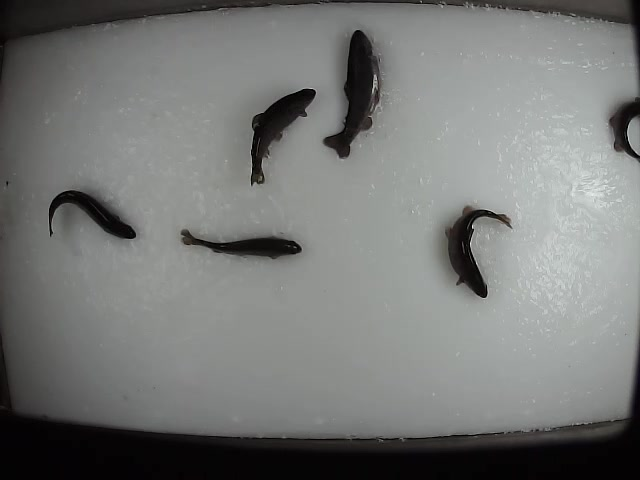fish: (320, 25, 383, 159), (442, 200, 514, 300), (247, 84, 316, 188), (176, 222, 307, 263), (44, 186, 140, 241)
